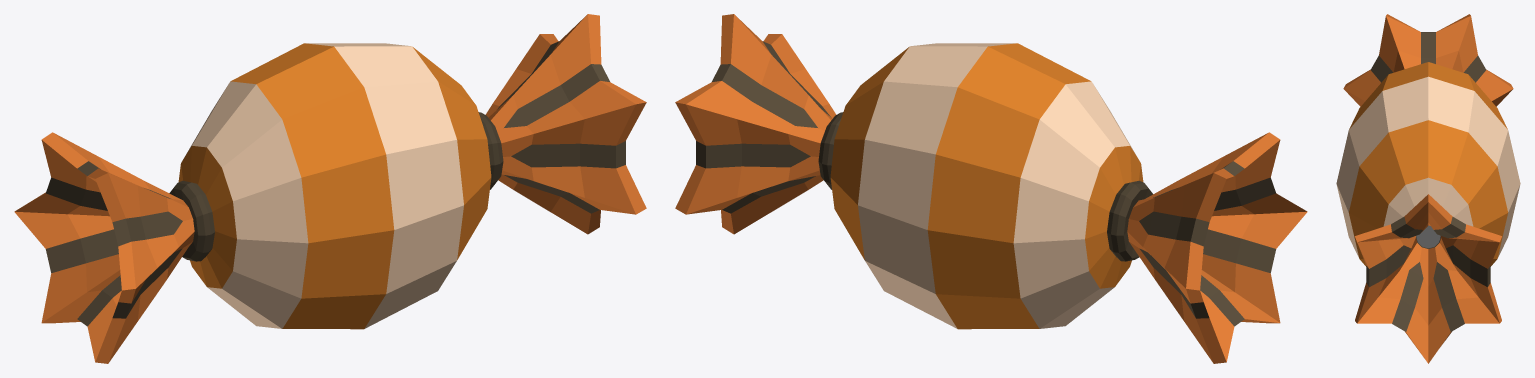
Rendered from WF_LP_HT_Props_Candy.005.fbx.
3 views of the same model, side by side, from view 1: azimuth 30°, elevation 25°; view 2: azimuth 150°, elevation 25°; view 3: azimuth 270°, elevation 25° (orthographic). The views are drawn at different scales.
Visible parts, largest first — view 1: WF_LP_HT_Props_Candy.005; view 2: WF_LP_HT_Props_Candy.005; view 3: WF_LP_HT_Props_Candy.005.
Part boxes in pixels (<box>): WF_LP_HT_Props_Candy.005: <box>14,14,646,363</box>; WF_LP_HT_Props_Candy.005: <box>675,14,1307,363</box>; WF_LP_HT_Props_Candy.005: <box>1336,14,1520,363</box>.
Bounding box in the file's own units: 0.1242 × 0.0623 × 0.0486.
